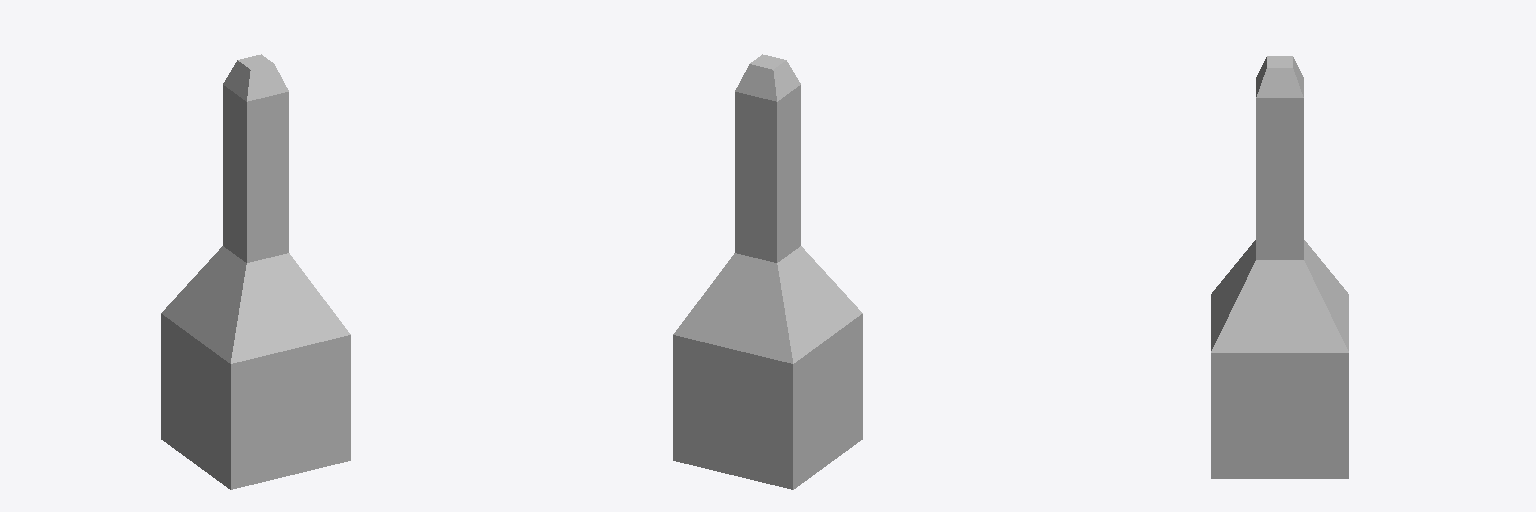
3 renders of one model, left to right at view 1: azimuth 30°, elevation 25°; view 2: azimuth 150°, elevation 25°; view 3: azimuth 270°, elevation 25°, orthographic.
Visible parts, largest first — view 1: test:pCube1; view 2: test:pCube1; view 3: test:pCube1.
Boxes of the visible parts, box(x1,y1,x2,y2) form: test:pCube1: box(161, 54, 350, 489); test:pCube1: box(673, 54, 862, 489); test:pCube1: box(1211, 56, 1348, 478).
Bounding box in the file's own units: 1 × 3.08 × 1.